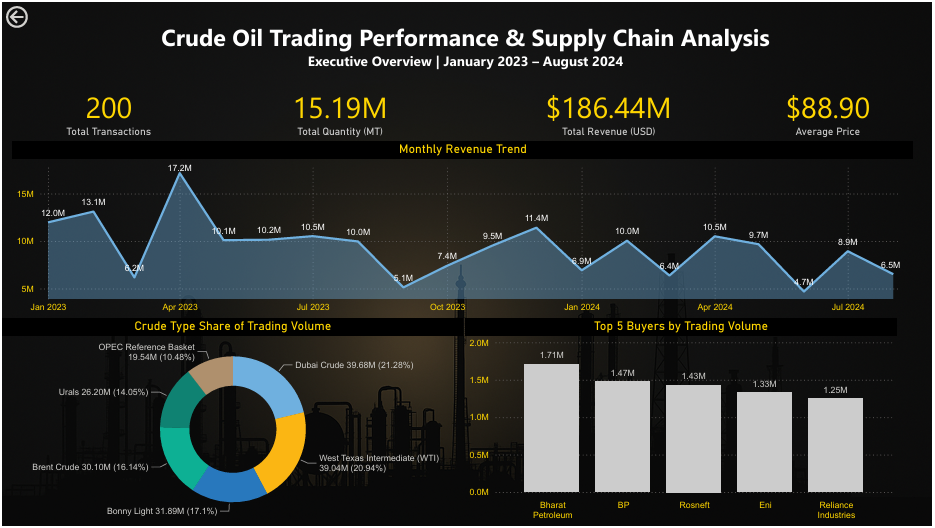

This screenshot's page, from the dashboard's own definition file:
{"tool":"powerbi","page":{"name":"Executive Overview","canvas":[1280,720],"ordinal":0},"visuals":[{"type":"card","fields":{"Values":["Supply Chain & Crude Sales Management Dashboard_SQL Output.Total Quantity (MT)"]},"box":[279,111.3,371.6,79.5],"z":0},{"type":"card","fields":{"Values":["Supply Chain & Crude Sales Management Dashboard_SQL Output.Total Revenue (USD)"]},"box":[650.6,111.3,368.7,79.5],"z":1000},{"type":"card","fields":{"Values":["Supply Chain & Crude Sales Management Dashboard_SQL Output.Average Price"]},"box":[1019.3,111.3,235.7,79.5],"z":2000},{"type":"card","fields":{"Values":["Supply Chain & Crude Sales Management Dashboard_SQL Output.Transaction Count"]},"box":[14.3,111.1,265.1,79.4],"z":3000},{"type":"areaChart","title":"Monthly Revenue Trend","fields":{"Category":["Supply Chain & Crude Sales Management Dashboard_SQL Output.Month"],"Y":["Sum(Supply Chain & Crude Sales Management Dashboard_SQL Output.Revenue)"]},"box":[14.5,190.8,1240.5,244.3],"z":4000},{"type":"clusteredColumnChart","title":"Top 5 Buyers by Trading Volume","fields":{"Category":["Supply Chain & Crude Sales Management Dashboard_SQL Output.Buyer"],"Y":["Sum(Supply Chain & Crude Sales Management Dashboard_SQL Output.quantity_mt)"]},"box":[638.1,434.9,593.7,285.7],"z":5000},{"type":"donutChart","title":"Crude Type Share of Trading Volume","fields":{"Category":["Supply Chain & Crude Sales Management Dashboard_SQL Output.crude_type"],"Y":["Sum(Supply Chain & Crude Sales Management Dashboard_SQL Output.Revenue)"]},"box":[0,434.9,634.9,285.7],"z":6000},{"type":"textbox","box":[43.7,19.6,1188,102.5],"z":7000},{"type":"actionButton","box":[0,0,100,40],"z":8000}]}

Visuals, with their boxes in screenshot pixels (x1, y1, x2, y2), scaled from the page's 1280x720 canvas onto the 935x528 screenshot:
card - Supply Chain & Crude Sales Management Dashboard_SQL Output.Total Quantity (MT): (x1=204, y1=82, x2=475, y2=140)
card - Supply Chain & Crude Sales Management Dashboard_SQL Output.Total Revenue (USD): (x1=475, y1=82, x2=745, y2=140)
card - Supply Chain & Crude Sales Management Dashboard_SQL Output.Average Price: (x1=745, y1=82, x2=917, y2=140)
card - Supply Chain & Crude Sales Management Dashboard_SQL Output.Transaction Count: (x1=10, y1=81, x2=204, y2=140)
"Monthly Revenue Trend" areaChart: (x1=11, y1=140, x2=917, y2=319)
"Top 5 Buyers by Trading Volume" clusteredColumnChart: (x1=466, y1=319, x2=900, y2=527)
"Crude Type Share of Trading Volume" donutChart: (x1=0, y1=319, x2=464, y2=527)
textbox: (x1=32, y1=14, x2=900, y2=90)
actionButton: (x1=0, y1=0, x2=73, y2=29)
